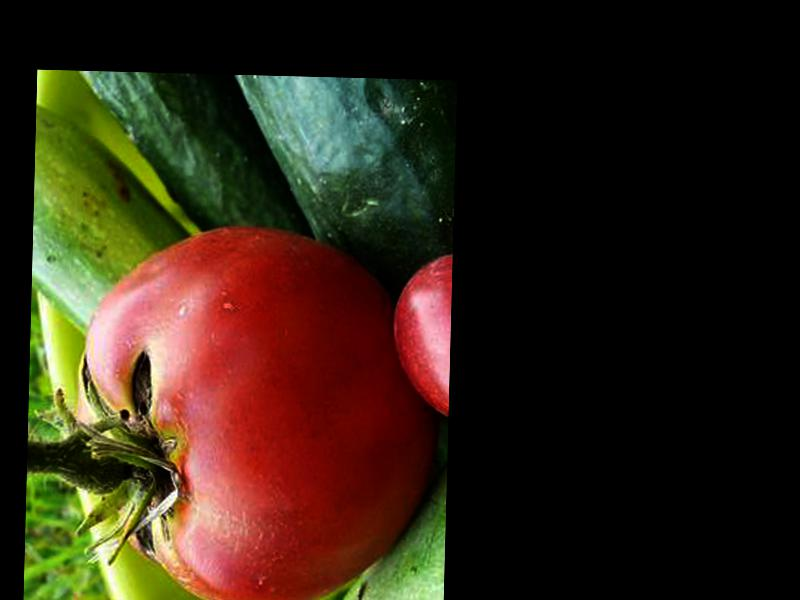Tomato: (77, 225, 444, 600)
